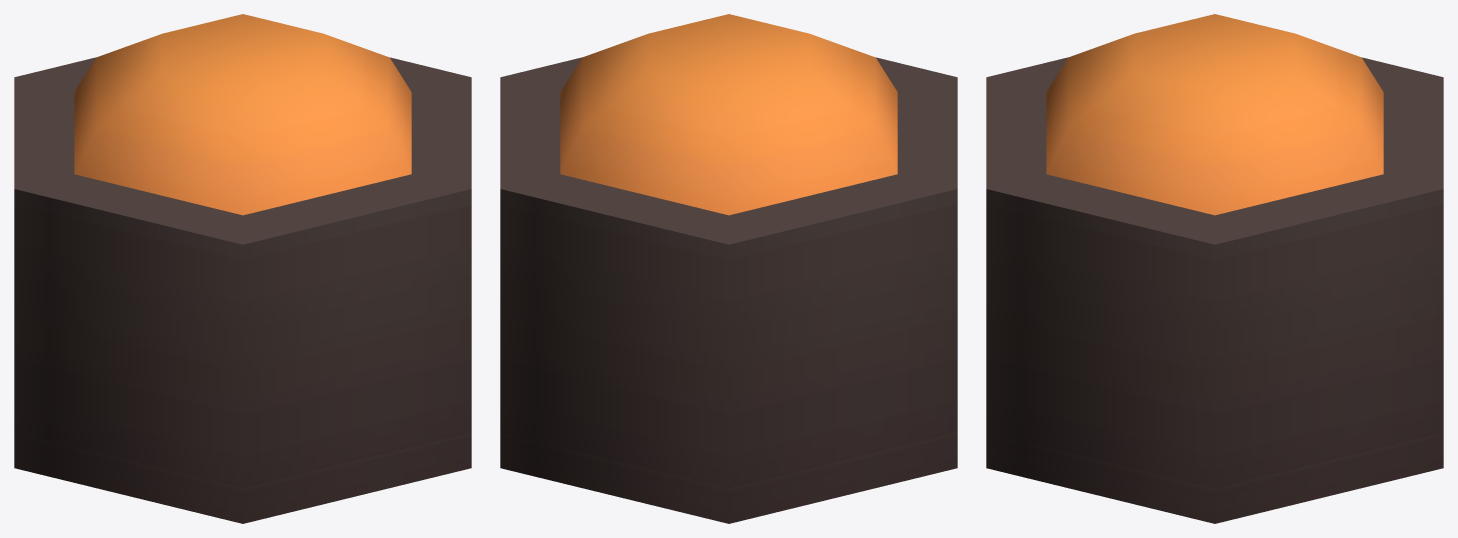
Rendered from maki-roe.glb.
3 views of the same model, side by side, from view 1: azimuth 30°, elevation 25°; view 2: azimuth 150°, elevation 25°; view 3: azimuth 270°, elevation 25° (orthographic).
Visible parts, largest first — view 1: maki-roe; view 2: maki-roe; view 3: maki-roe.
Part boxes in pixels (x1=…): maki-roe: x1=14, y1=14, x2=471, y2=523; maki-roe: x1=500, y1=14, x2=957, y2=523; maki-roe: x1=986, y1=14, x2=1443, y2=523.
Bounding box in the file's own units: 0.12 × 0.09 × 0.1039.
Materials: 1 (1 with a texture image).
